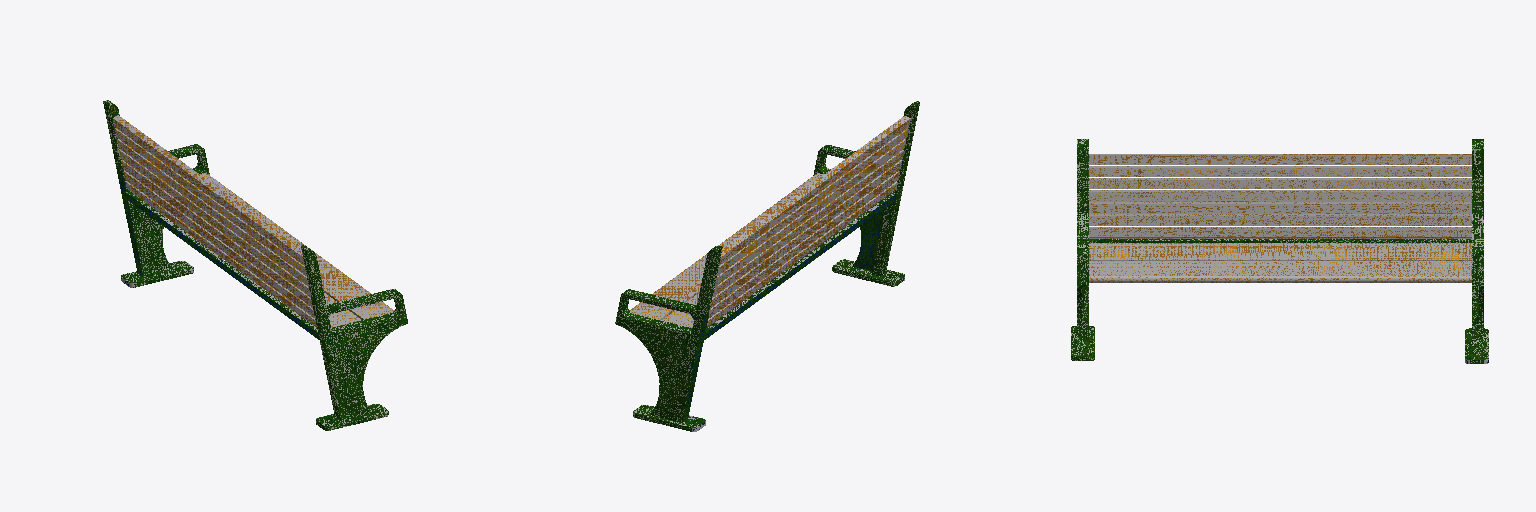
The picture shows the model from 3 angles: view 1: azimuth 30°, elevation 25°; view 2: azimuth 150°, elevation 25°; view 3: azimuth 270°, elevation 25°; orthographic projection.
Parts seen in each view (by area): view 1: mesh1_mesh1-geometry; view 2: mesh1_mesh1-geometry; view 3: mesh1_mesh1-geometry.
Part boxes in pixels (x1,y1,x2,y2): mesh1_mesh1-geometry: (103,100,407,430); mesh1_mesh1-geometry: (615,101,919,431); mesh1_mesh1-geometry: (1071,139,1488,363).
Size of the model in its own units: 0.2447 by 0.4254 by 0.8713.
Materials: 5 (4 with a texture image).